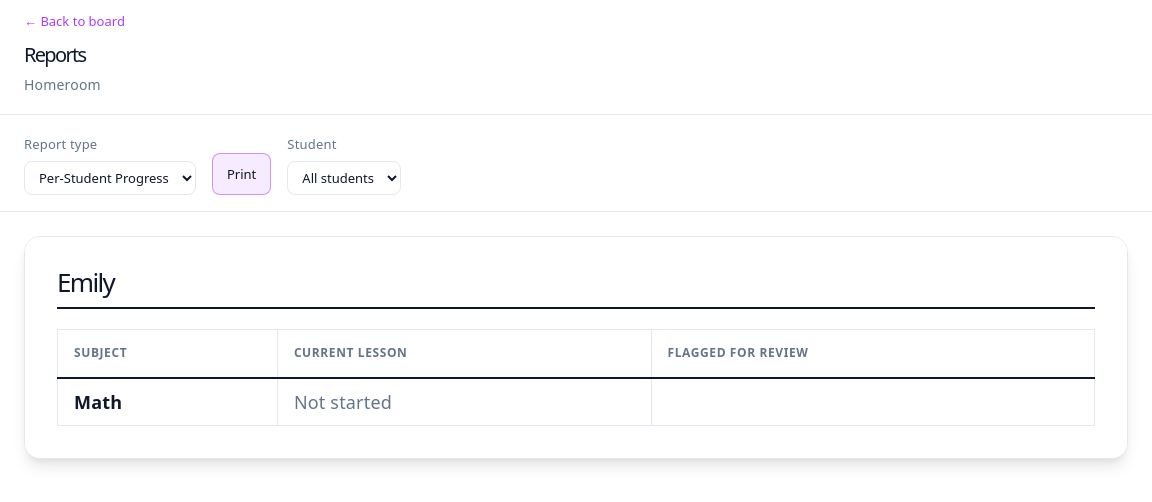
Test: Reports › switches to the weekly lesson plan grid and hides the student picker
Select "Weekly Lesson Plan" in the dropdown labelled "Report type" at (110, 178), box [24,161,196,195]
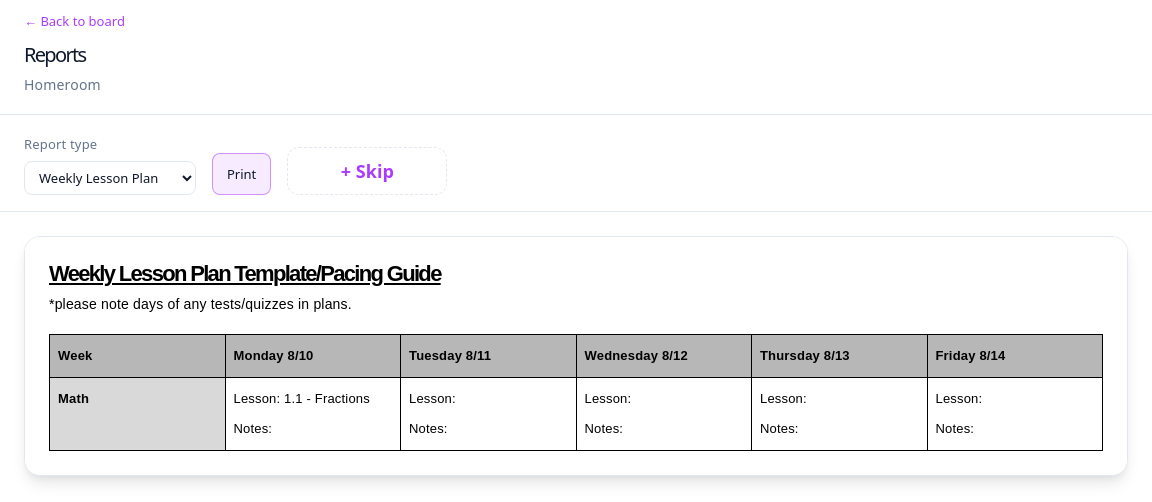
Expected: the heading "Weekly Lesson Plan Template/Pacing Guide" is shown, [49,261,441,286]
Expected: the label "Student" is gone
Expected: the heading "Emily" is gone
